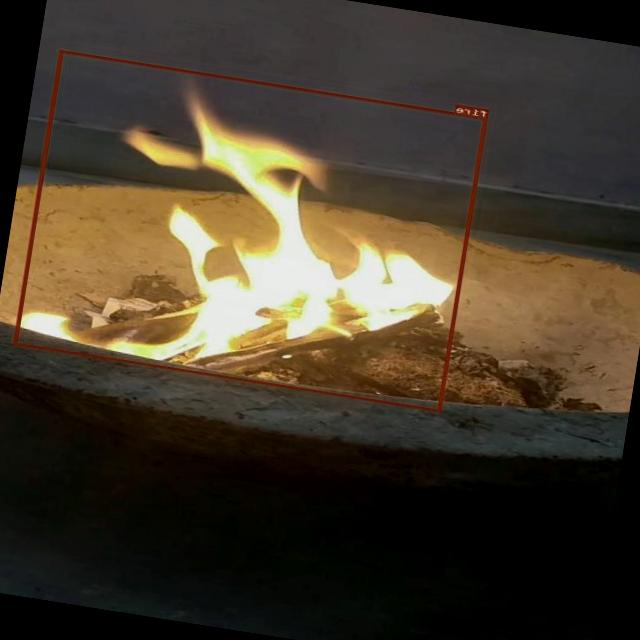fire: (14, 49, 488, 412)
